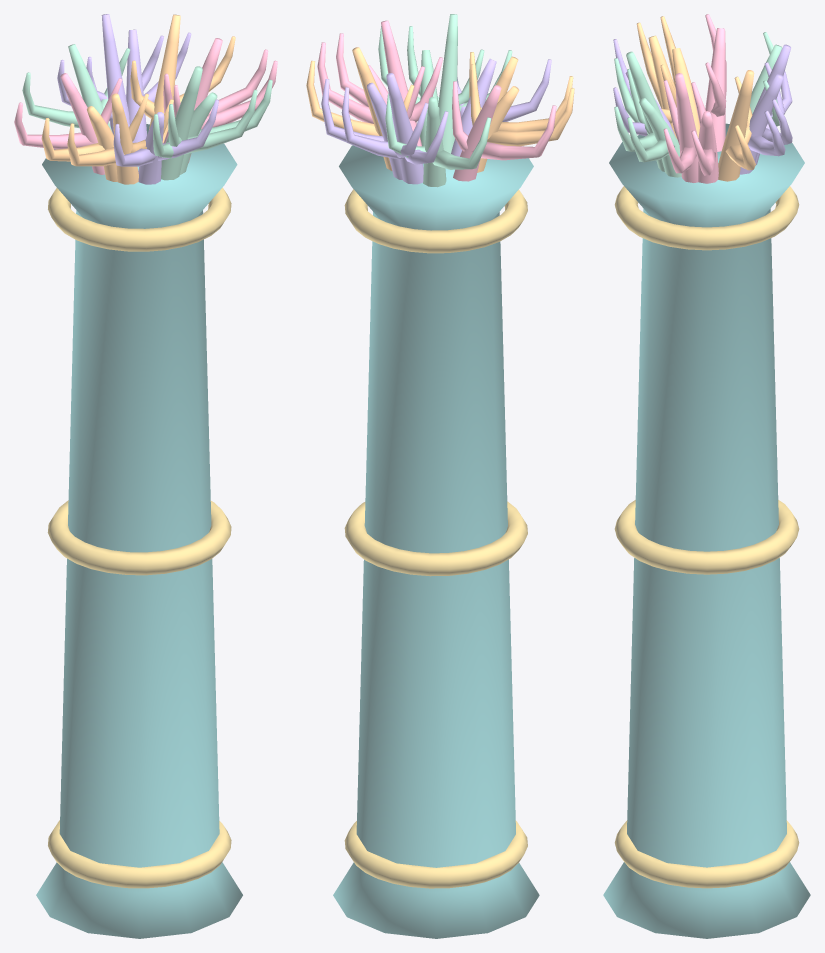
The model's file is atlantis_detail_coral_spire.glb.
3 renders of one model, left to right at view 1: azimuth 30°, elevation 25°; view 2: azimuth 150°, elevation 25°; view 3: azimuth 270°, elevation 25°, orthographic.
Parts seen in each view (by area): view 1: atlantis_detail_coral_spire_surface; view 2: atlantis_detail_coral_spire_surface; view 3: atlantis_detail_coral_spire_surface.
Part boxes in pixels (x1,y1,x2,y2): atlantis_detail_coral_spire_surface: (14,14,277,938); atlantis_detail_coral_spire_surface: (306,14,574,938); atlantis_detail_coral_spire_surface: (603,14,810,938).
Bounding box in the file's own units: 2.43 × 8.15 × 1.8.
